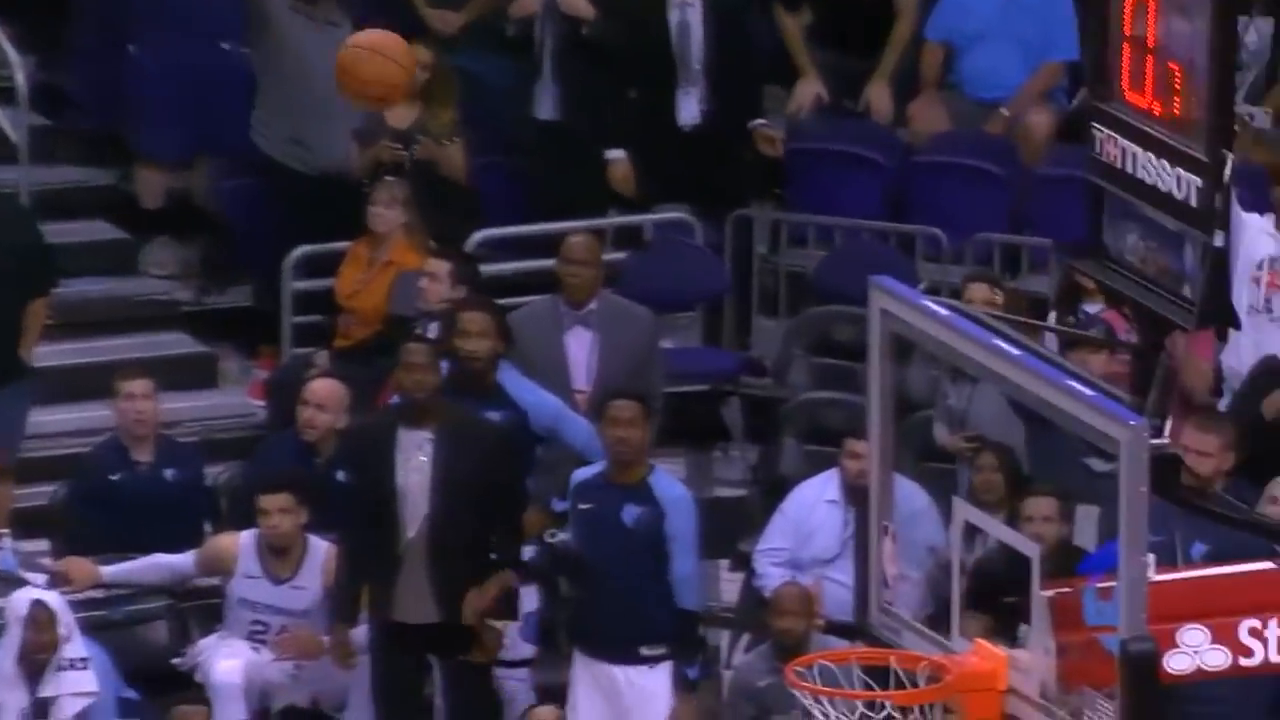ball: (334, 27, 421, 112)
